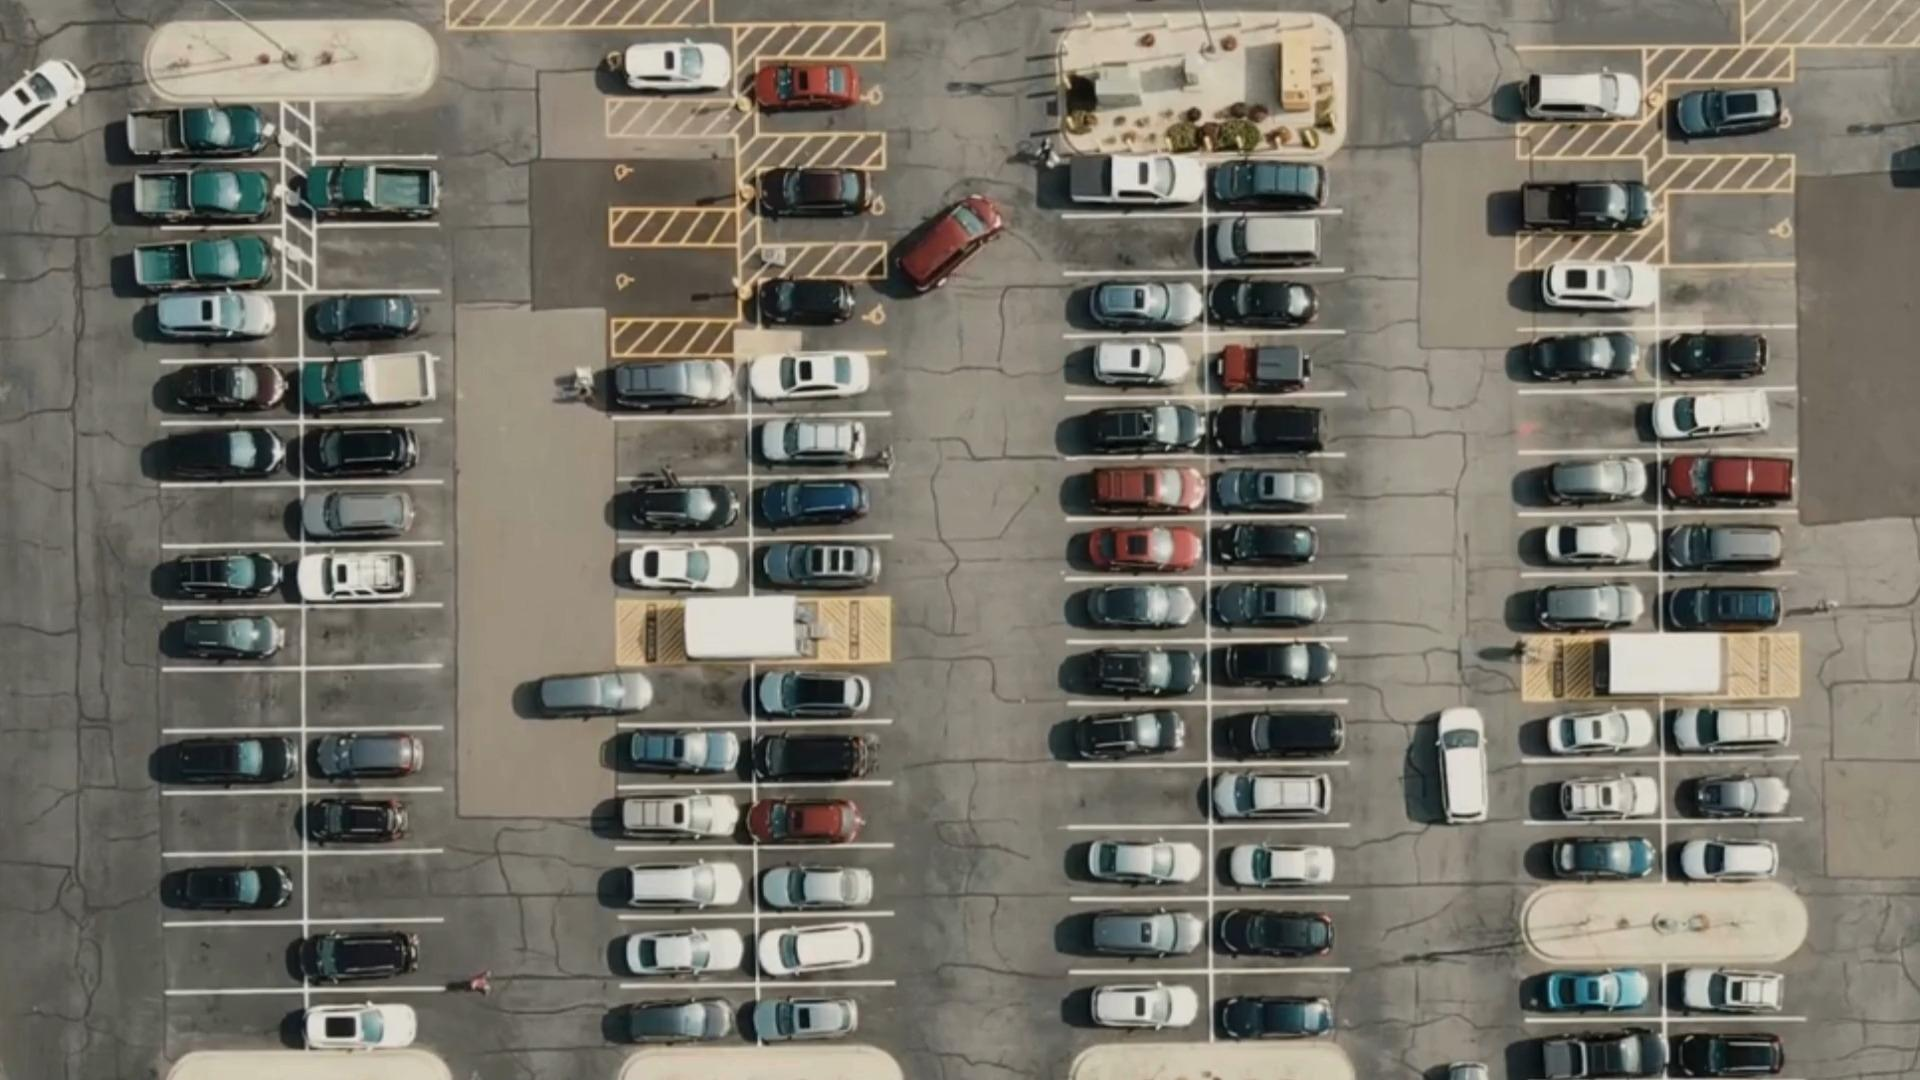occupied: (1067, 896, 1211, 971), (1211, 893, 1349, 971), (144, 293, 300, 361), (1067, 967, 1213, 1037), (301, 290, 444, 361), (307, 917, 444, 991), (756, 911, 891, 986), (1067, 826, 1211, 896), (147, 359, 300, 424), (1210, 823, 1349, 893), (160, 420, 301, 489), (1067, 330, 1207, 399), (167, 853, 304, 923), (1517, 49, 1646, 123), (621, 914, 759, 983), (1521, 819, 1663, 886), (1660, 756, 1801, 823), (750, 720, 893, 786), (1066, 577, 1209, 643), (1207, 701, 1350, 767), (301, 480, 441, 547), (1066, 451, 1203, 519), (144, 160, 277, 230), (760, 280, 886, 353), (1213, 970, 1350, 1037), (1516, 160, 1646, 230), (620, 849, 759, 914), (1520, 509, 1661, 573), (759, 171, 884, 243), (617, 721, 753, 787), (1207, 333, 1343, 399), (163, 544, 301, 609), (1203, 209, 1341, 274), (1521, 756, 1663, 819), (1653, 384, 1797, 446), (611, 29, 736, 100), (167, 731, 303, 796), (304, 790, 444, 853), (1064, 701, 1211, 761), (1207, 577, 1349, 639), (756, 846, 891, 911), (1660, 446, 1797, 510), (621, 983, 760, 1046), (1657, 326, 1796, 389), (1660, 510, 1799, 573), (1206, 453, 1344, 516), (1669, 83, 1796, 151), (1663, 823, 1800, 886), (1061, 271, 1207, 330), (750, 413, 886, 476), (137, 99, 277, 160), (300, 360, 440, 421), (1207, 639, 1349, 699), (307, 991, 444, 1053), (1520, 330, 1659, 391), (1066, 641, 1207, 701), (1516, 451, 1661, 509), (749, 476, 886, 537), (1207, 516, 1344, 577), (607, 356, 751, 414), (301, 546, 440, 606), (1207, 271, 1341, 333), (760, 59, 877, 130), (1066, 519, 1209, 577), (1519, 270, 1657, 330), (1666, 960, 1804, 1020), (1666, 1020, 1804, 1080), (751, 353, 886, 414), (304, 731, 443, 790), (620, 786, 750, 849), (319, 157, 443, 223), (1520, 573, 1661, 631), (143, 230, 277, 291), (617, 661, 753, 721), (161, 609, 304, 666), (753, 787, 891, 846), (616, 476, 749, 537), (1529, 1020, 1666, 1079), (1064, 394, 1204, 451), (300, 424, 441, 480), (1661, 573, 1797, 631), (760, 986, 891, 1046), (1210, 767, 1350, 823), (1067, 157, 1206, 213), (751, 533, 887, 590), (1529, 961, 1660, 1020), (1663, 701, 1803, 756), (751, 667, 893, 720), (1524, 701, 1660, 756), (1206, 399, 1343, 453), (621, 536, 751, 590), (1206, 159, 1330, 213)
vacant: (1065, 760, 1210, 827), (163, 987, 305, 1054), (608, 134, 737, 207), (303, 849, 443, 916), (166, 922, 305, 987), (614, 246, 737, 319), (1665, 193, 1796, 261), (162, 793, 305, 854), (306, 603, 442, 667), (1518, 389, 1659, 449), (162, 485, 300, 544), (319, 222, 442, 288), (311, 98, 440, 160), (608, 417, 750, 473), (1068, 210, 1202, 269), (300, 667, 442, 722), (162, 669, 300, 722)
